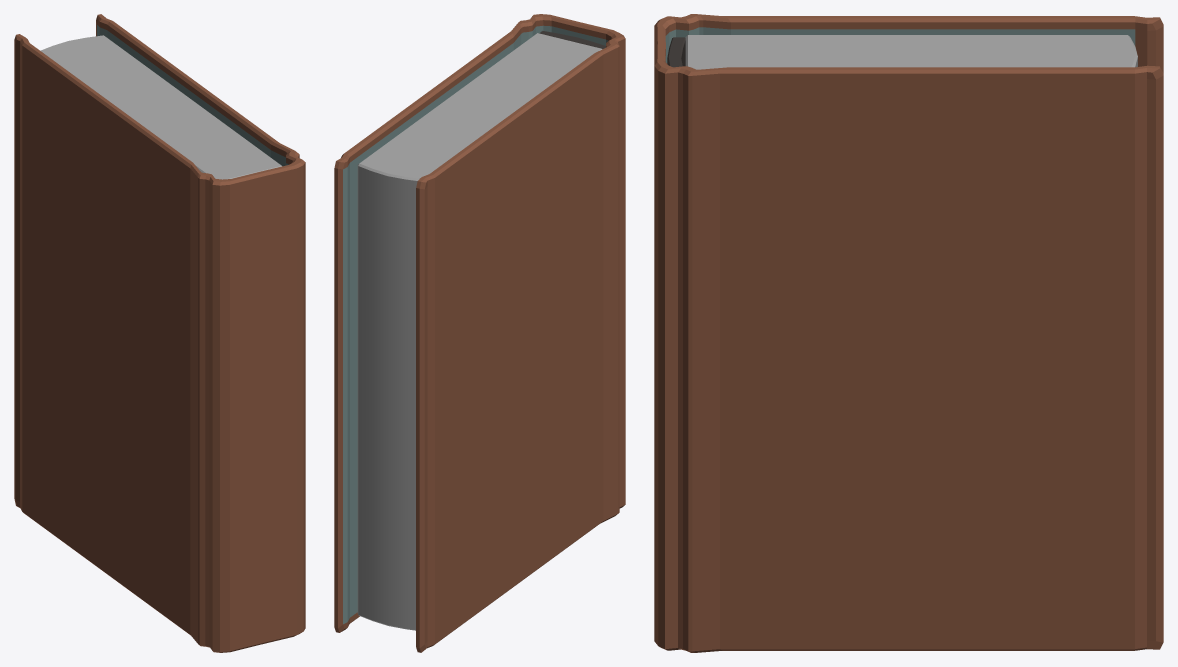
Rendered from Book_C.fbx.
3 renders of one model, left to right at view 1: azimuth 30°, elevation 25°; view 2: azimuth 150°, elevation 25°; view 3: azimuth 270°, elevation 25°, orthographic. The views are drawn at different scales.
Visible parts, largest first — view 1: BookE; view 2: BookE; view 3: BookE.
Part boxes in pixels (x1,y1,x2,y2): BookE: (14, 14, 305, 652); BookE: (334, 14, 625, 652); BookE: (654, 14, 1163, 652).
Size of the model in its own units: 0.1293 by 0.5818 by 0.4618.
